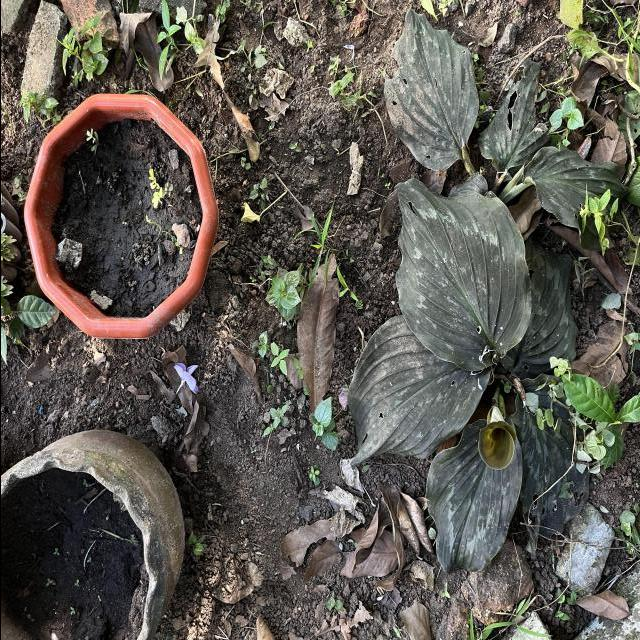Kaempferia galanga linn: (390, 176, 532, 373), (345, 312, 493, 471), (422, 416, 524, 580), (382, 5, 479, 173)
